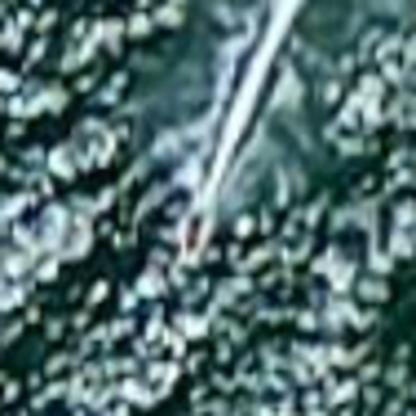ship: (154, 177, 232, 281)
